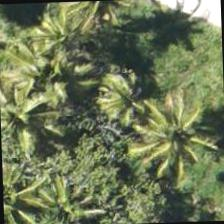Kelapa_Sawit: (134, 87, 223, 181), (0, 64, 63, 157)
